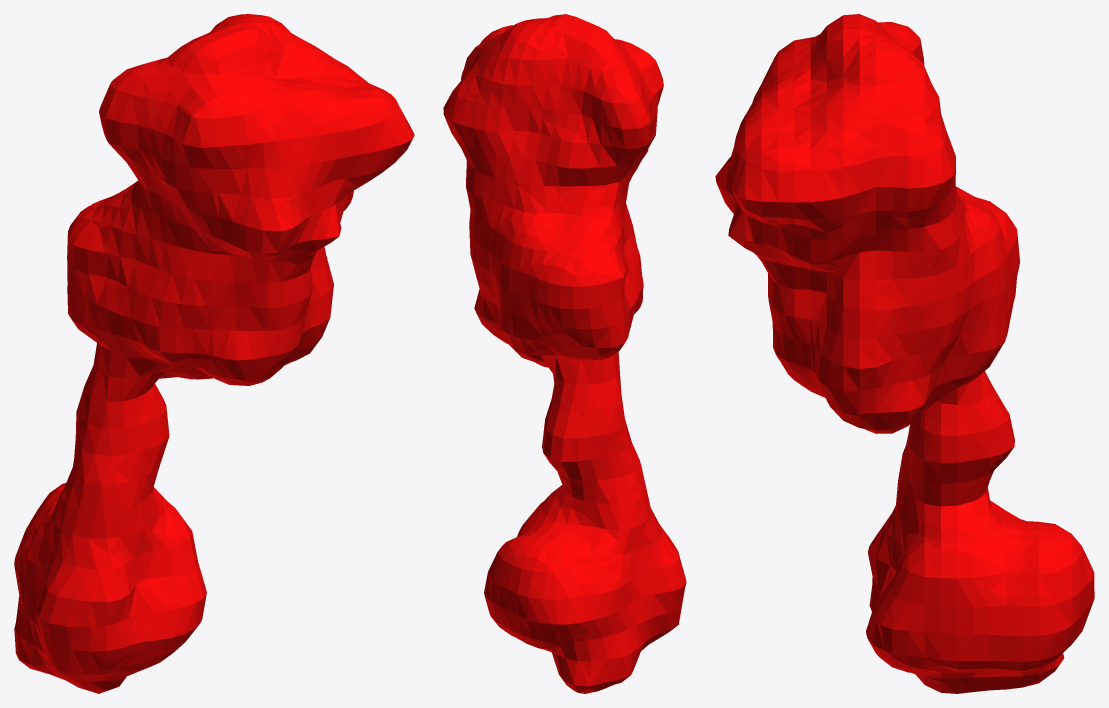
Rendered from yeiE_coarse.dae.
The picture shows the model from 3 angles, left to right: view 1: azimuth 30°, elevation 25°; view 2: azimuth 150°, elevation 25°; view 3: azimuth 270°, elevation 25°; orthographic projection. The views are drawn at different scales.
Parts seen in each view (by area): view 1: yeiE; view 2: yeiE; view 3: yeiE.
Part boxes in pixels (x1,y1,x2,y2): yeiE: (14,14,414,693); yeiE: (443,14,686,693); yeiE: (715,14,1094,693).
Bounding box in the file's own units: 50.92 × 111 × 53.29.
